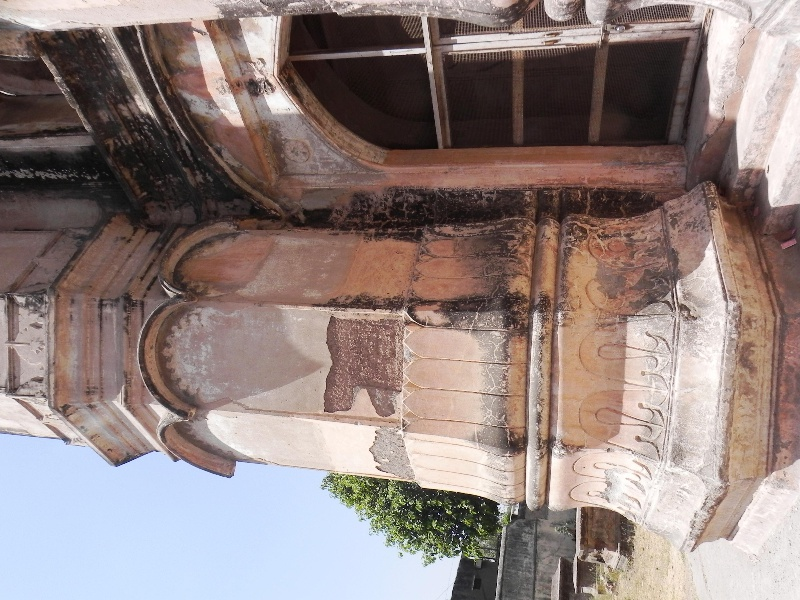Crack: (365, 421, 420, 482)
Spalling: (323, 306, 407, 417)
